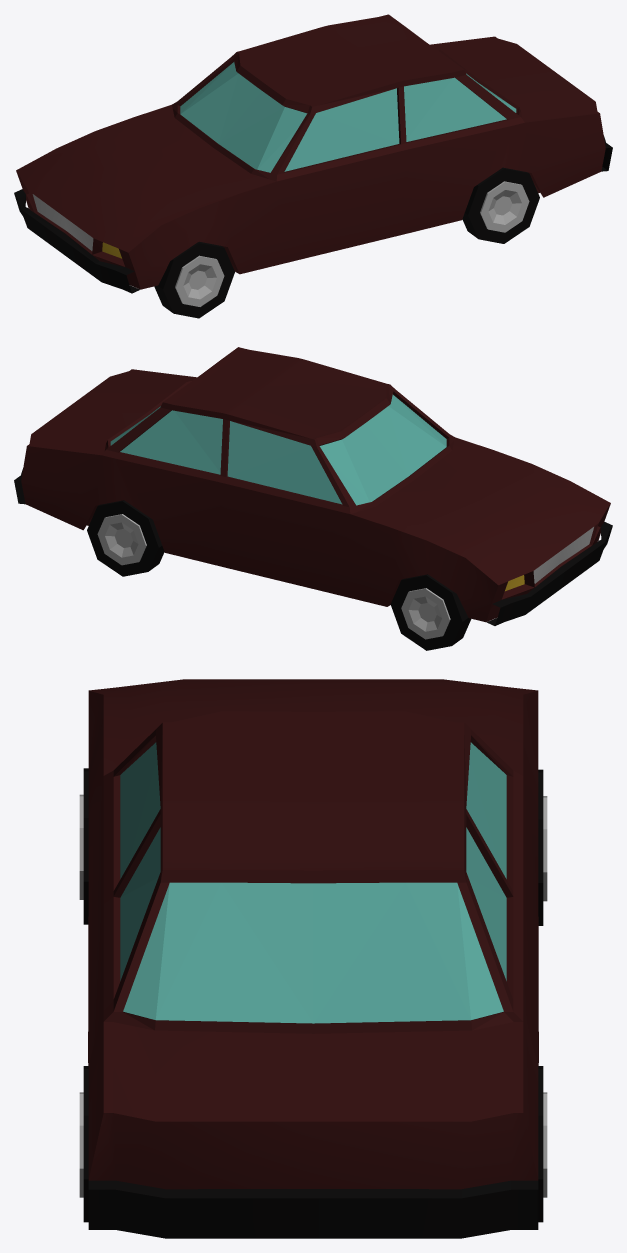
The model's file is car1.FBX.
The picture shows the model from 3 angles, top to bottom: view 1: azimuth 30°, elevation 25°; view 2: azimuth 150°, elevation 25°; view 3: azimuth 270°, elevation 25°; orthographic projection. The views are drawn at different scales.
Parts seen in each view (by area): view 1: Peugeot 505m; view 2: Peugeot 505m; view 3: Peugeot 505m.
Boxes of the visible parts, box(x1,y1,x2,y2) form: Peugeot 505m: box(14, 14, 612, 318); Peugeot 505m: box(14, 347, 612, 650); Peugeot 505m: box(79, 679, 547, 1238).
Bounding box in the file's own units: 42.19 × 13.43 × 16.86.
